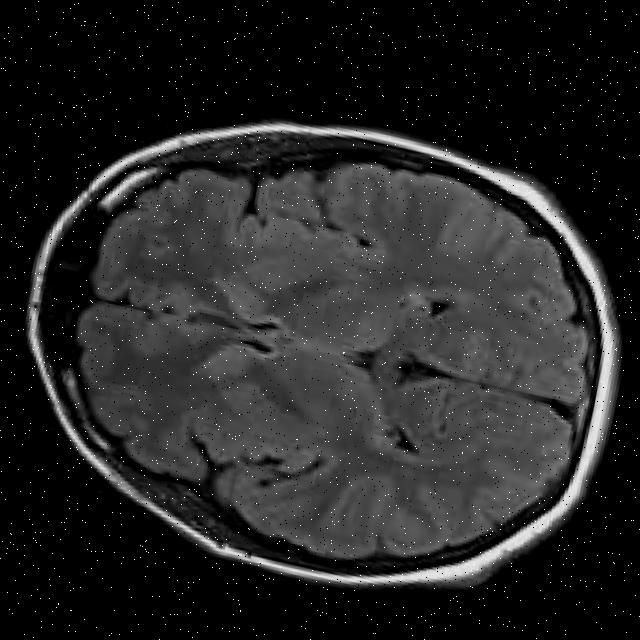NoTumor: (0, 51, 639, 640)
